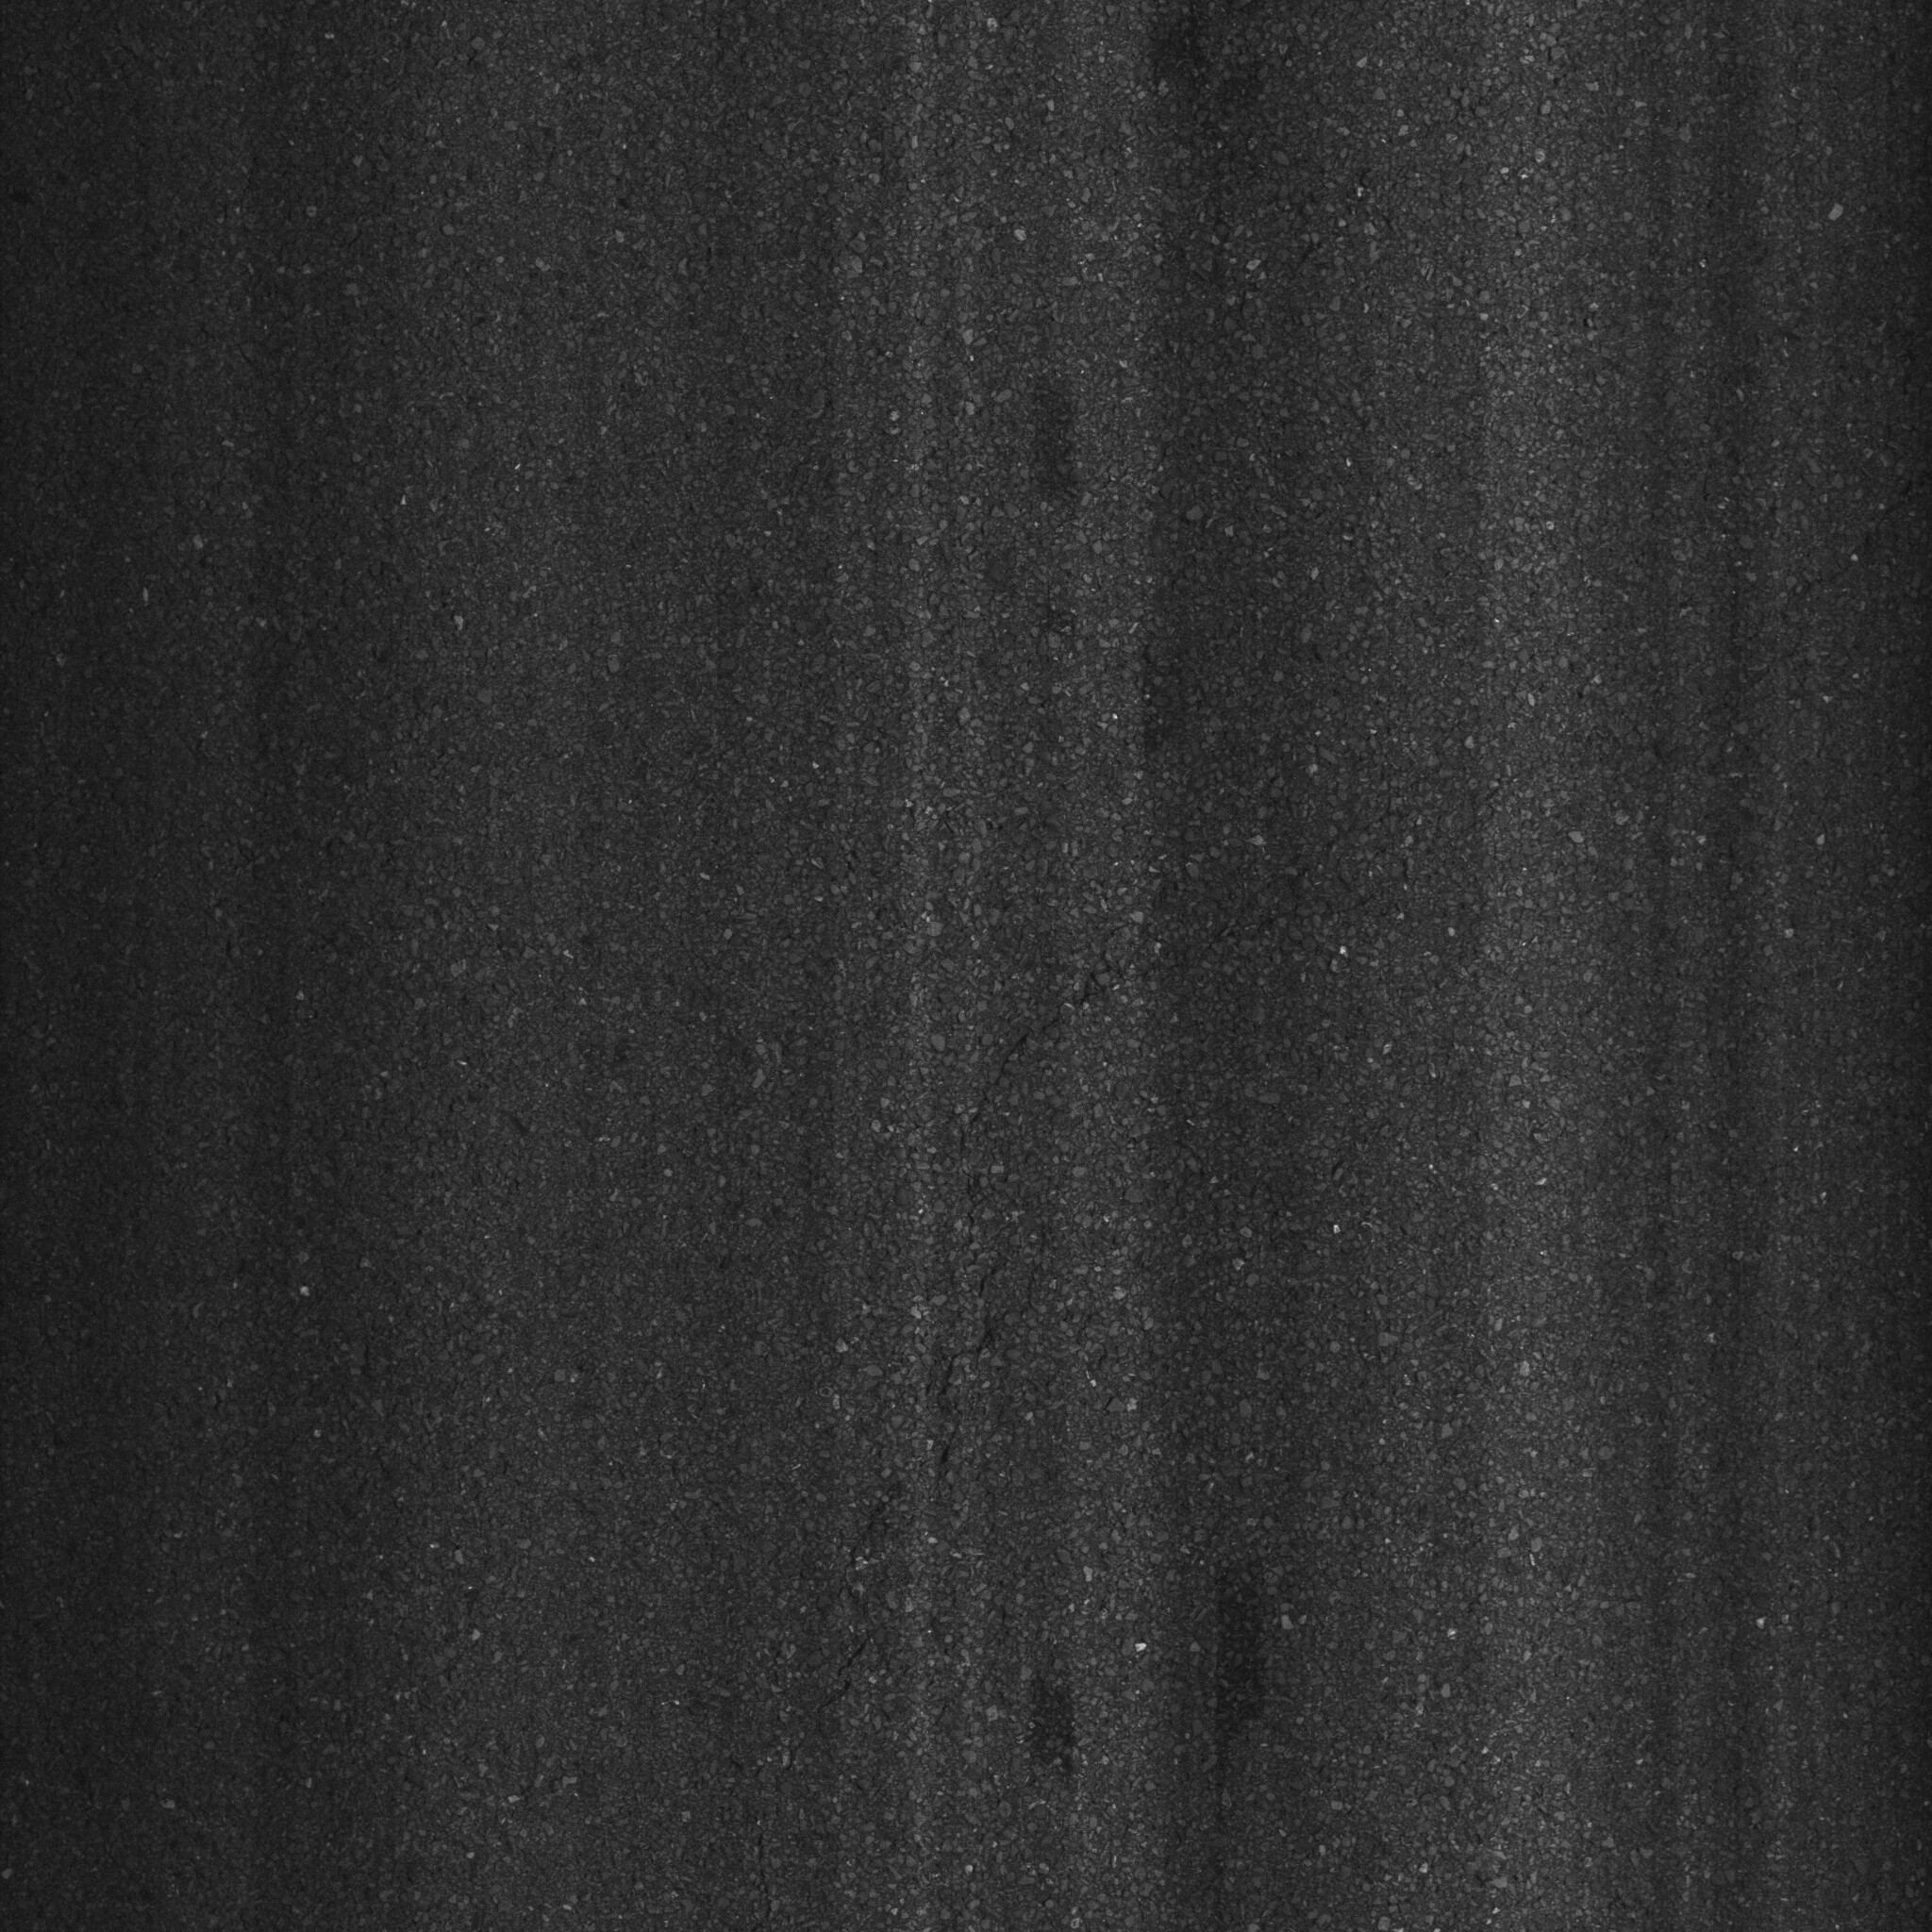longitudinal: (793, 817, 1490, 1829)
